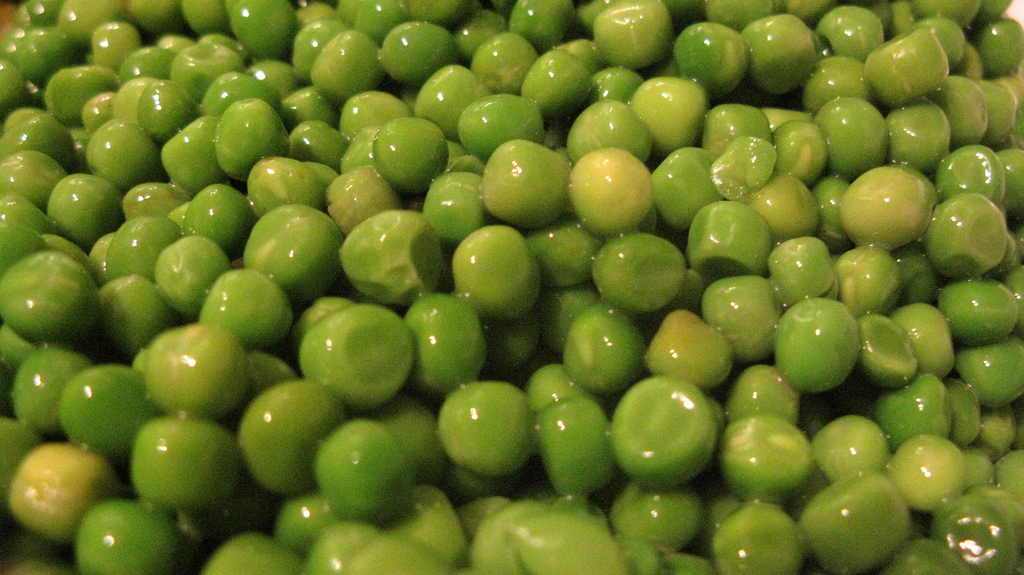boiled peas: (9, 10, 1011, 562)
